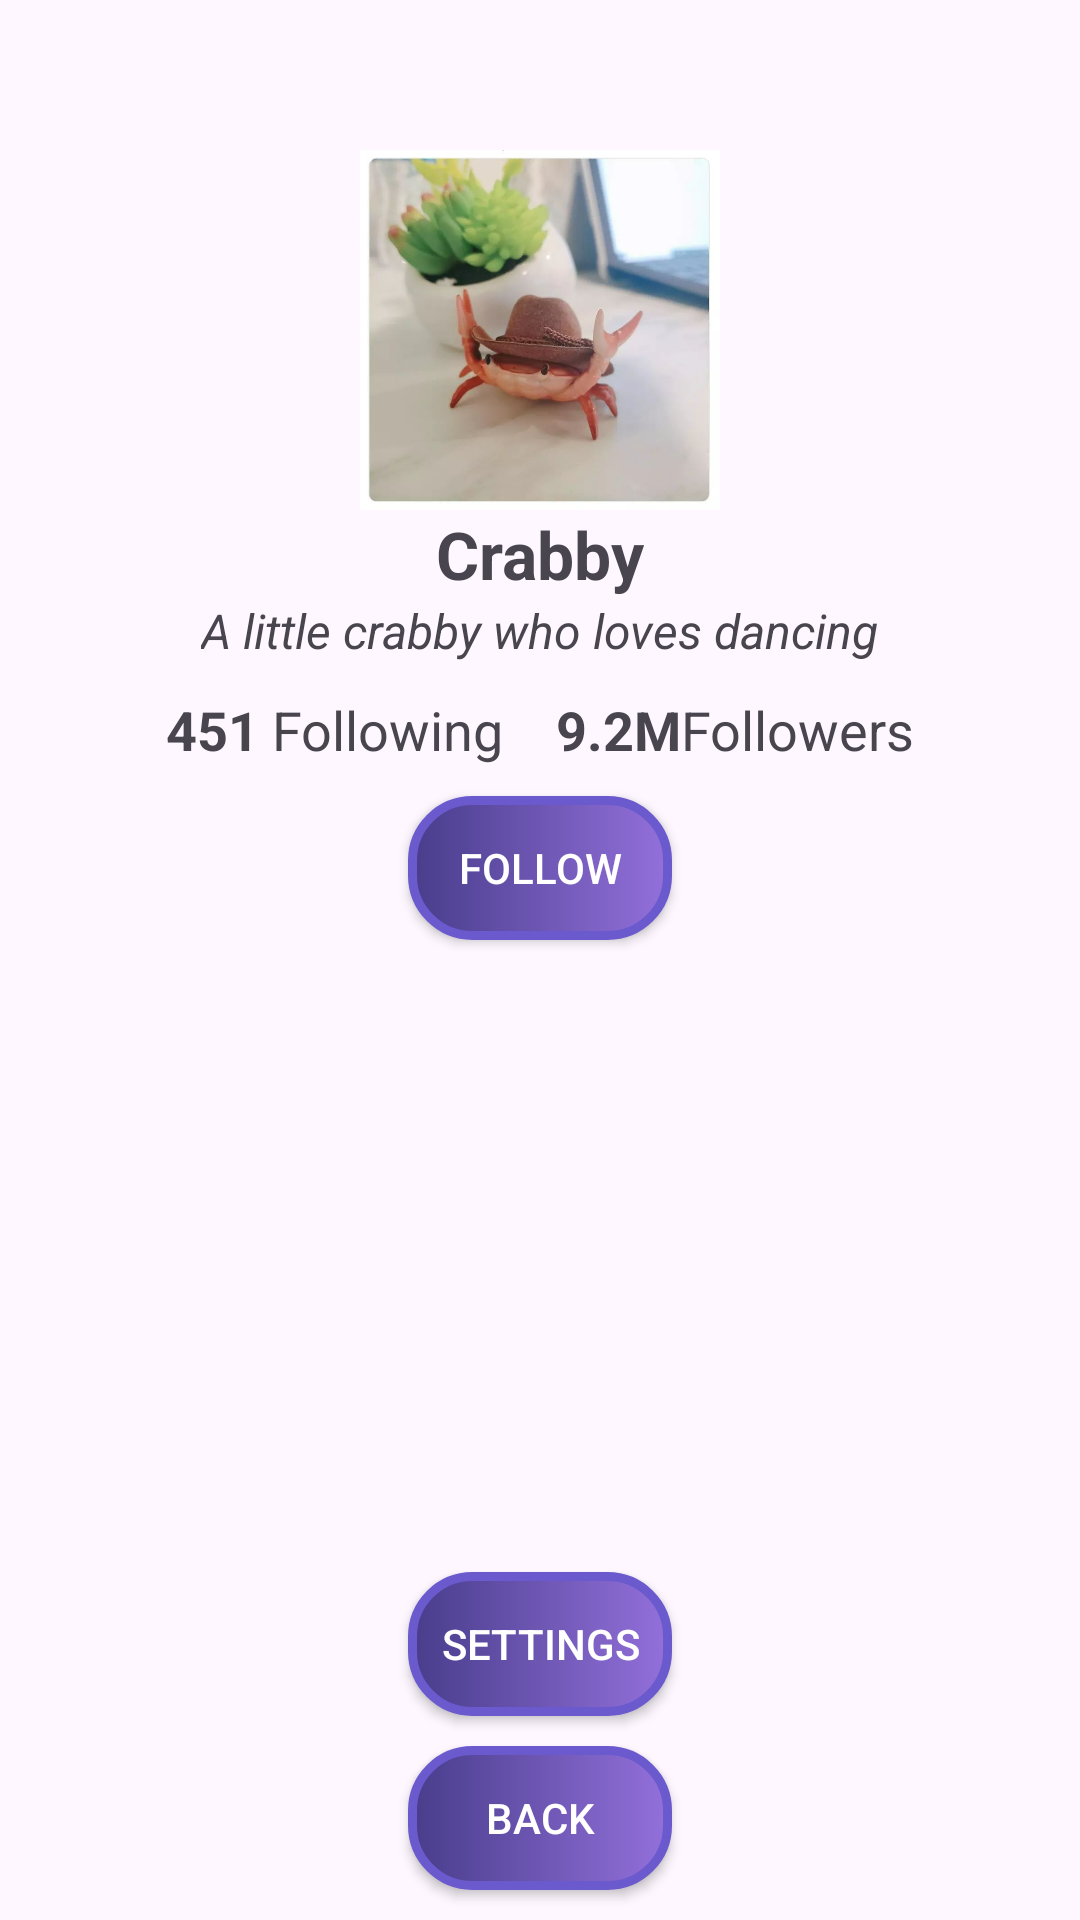

Icons on this 1080px x 1920px Android screen, each with the point to tap as [x,y]:
crabe: [539,326]
